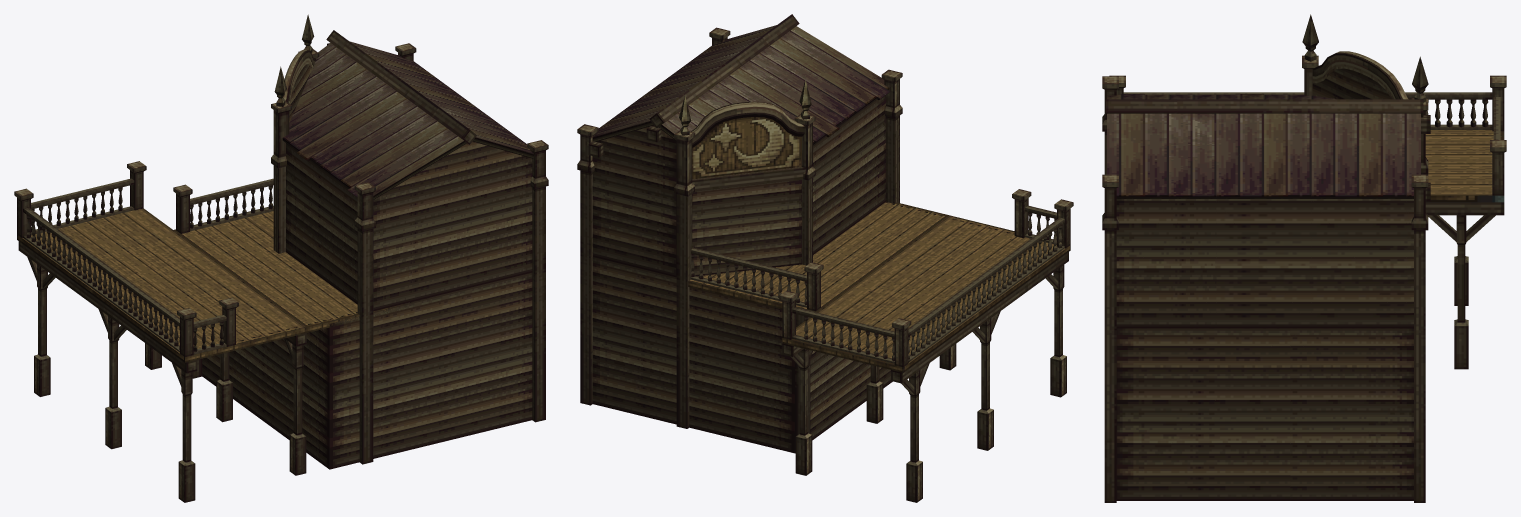
File: EnvBdgMD_Wilderness_A_Outdoor_Shop_Inn.FBX
The picture shows the model from 3 angles, left to right: view 1: azimuth 30°, elevation 25°; view 2: azimuth 150°, elevation 25°; view 3: azimuth 270°, elevation 25°; orthographic projection. The views are drawn at different scales.
Visible parts, largest first — view 1: EnvBdgMD_Wilderness_A_Outdoor_Shop_Inn; view 2: EnvBdgMD_Wilderness_A_Outdoor_Shop_Inn; view 3: EnvBdgMD_Wilderness_A_Outdoor_Shop_Inn.
Part boxes in pixels (box(x1,y1,x2,y2)): EnvBdgMD_Wilderness_A_Outdoor_Shop_Inn: box(14, 14, 548, 502); EnvBdgMD_Wilderness_A_Outdoor_Shop_Inn: box(577, 14, 1073, 502); EnvBdgMD_Wilderness_A_Outdoor_Shop_Inn: box(1102, 14, 1506, 502).
Size of the model in its own units: 1025 by 900 by 850.
1 material, 1 textured.
